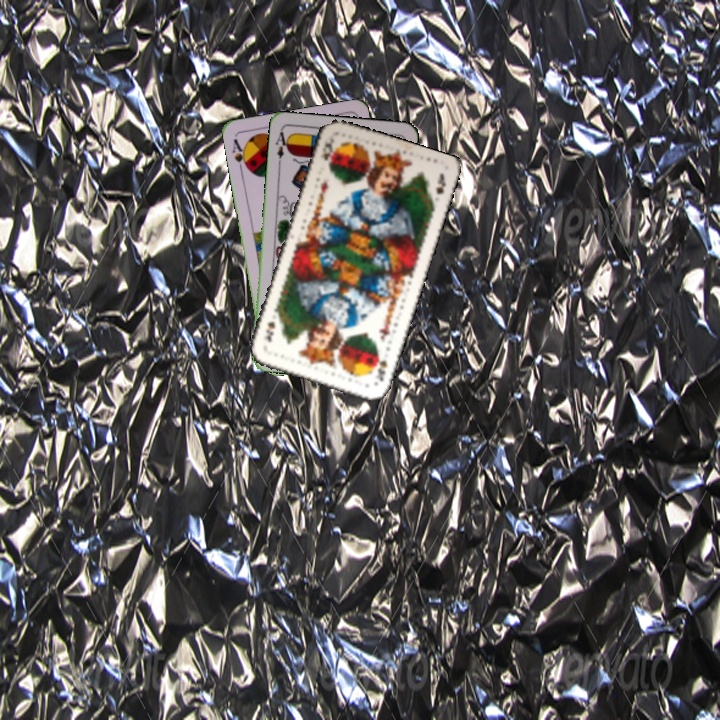EA: (271, 126, 292, 167)
SA: (228, 135, 251, 174)
SK: (370, 347, 390, 384), (318, 133, 337, 169)
